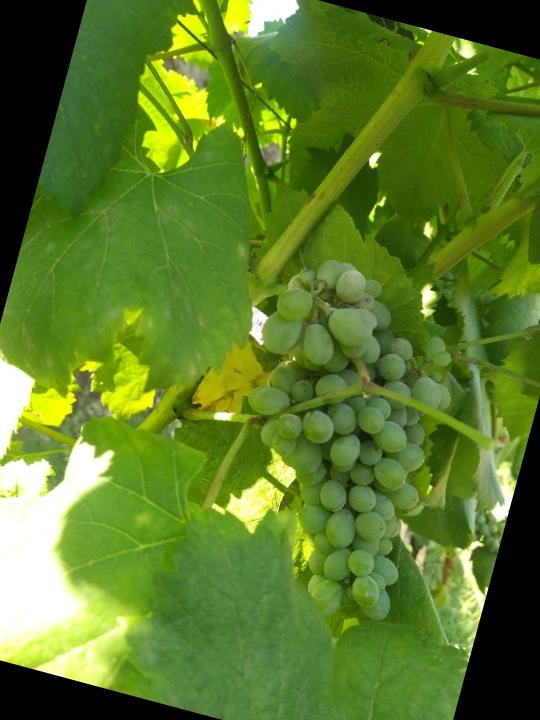grape: (196, 249, 479, 629)
